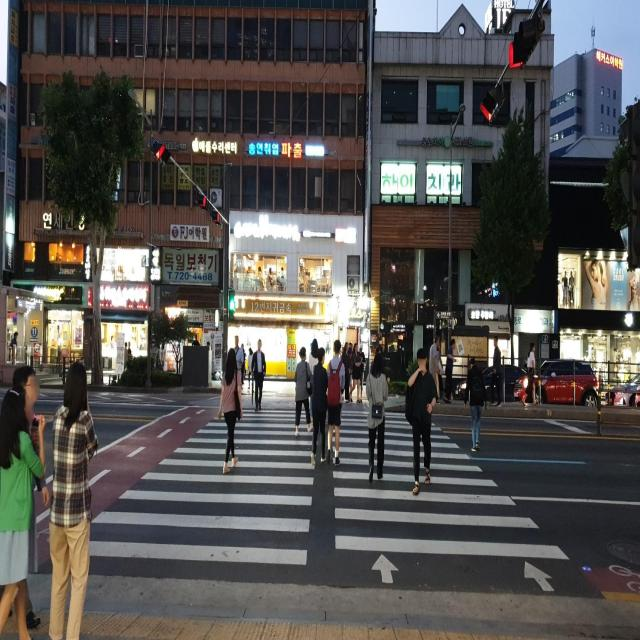초록불: (227, 288, 237, 321)
횡단보도: (89, 409, 570, 593)
